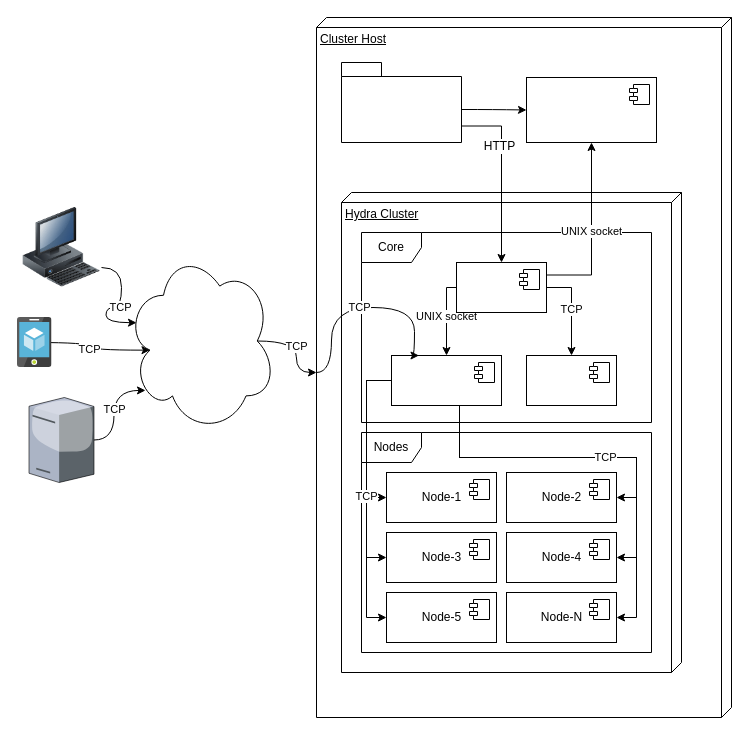
Some shapes in this 749 by 735 pixel diagram are drawn without their labels. Here are the shapes that lost their labels. From the top down, the centre of each, then its label:
the point at 401,102: hydra-ctl
the point at 591,109: Docker
the point at 501,287: API
the point at 446,380: HAProxy
the point at 571,380: Redis
